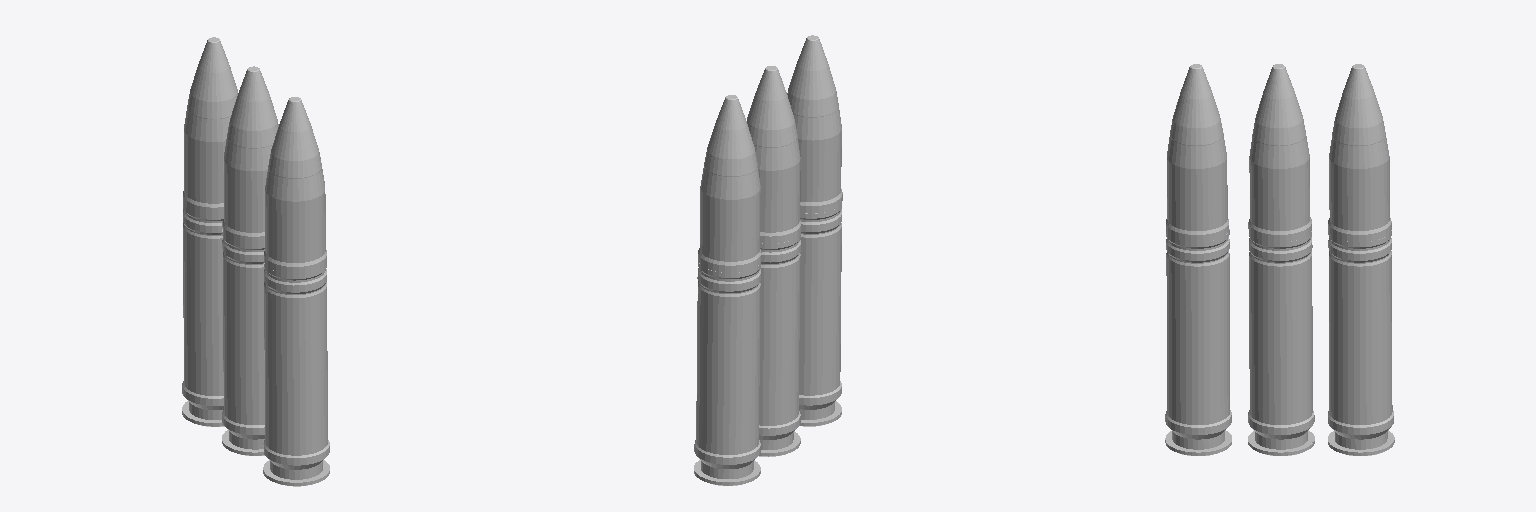
The model's file is bullet_30mm.obj.
The picture shows the model from 3 angles: view 1: azimuth 30°, elevation 25°; view 2: azimuth 150°, elevation 25°; view 3: azimuth 270°, elevation 25°; orthographic projection.
Parts seen in each view (by area): view 1: Circle.002_Circle.004, Circle.001, Circle.000; view 2: Circle.000, Circle.002_Circle.004, Circle.001; view 3: Circle.001, Circle.000, Circle.002_Circle.004.
Part boxes in pixels (left/top/right/bottom): Circle.002_Circle.004: left=263, top=97, right=329, bottom=486; Circle.001: left=222, top=66, right=278, bottom=455; Circle.000: left=182, top=37, right=237, bottom=426; Circle.000: left=694, top=95, right=761, bottom=485; Circle.002_Circle.004: left=787, top=35, right=842, bottom=426; Circle.001: left=747, top=66, right=800, bottom=456; Circle.001: left=1248, top=64, right=1314, bottom=455; Circle.000: left=1328, top=64, right=1394, bottom=455; Circle.002_Circle.004: left=1165, top=64, right=1231, bottom=455.
Size of the model in its own units: 4 by 24.64 by 13.6.